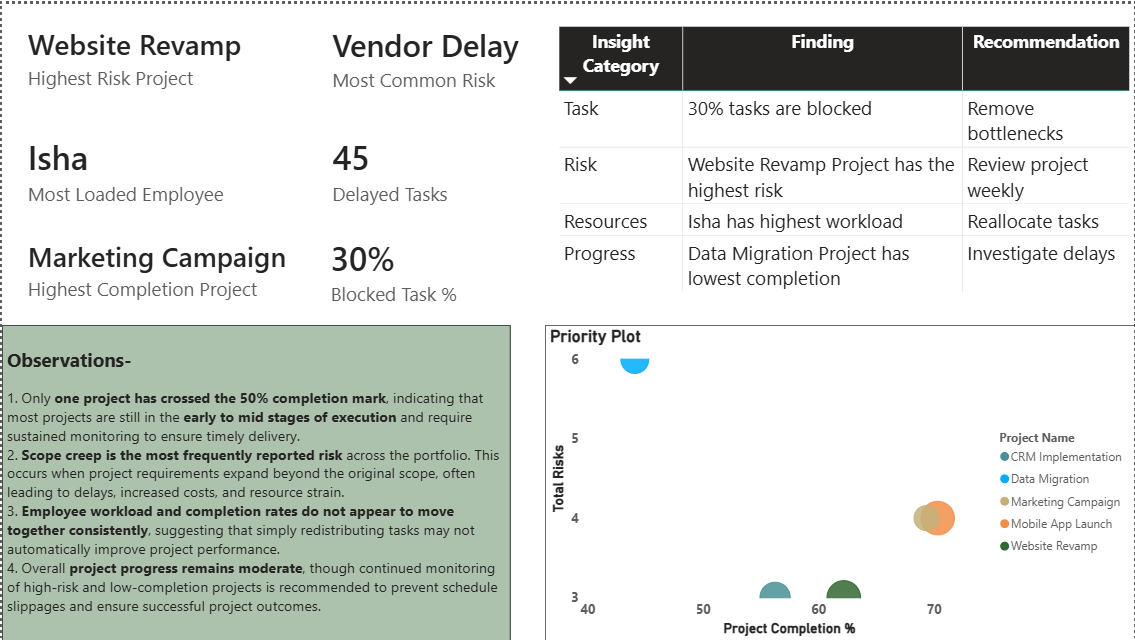

This screenshot's page, from the dashboard's own definition file:
{"tool":"powerbi","page":{"name":"Insights Page","canvas":[1280,720],"ordinal":4},"visuals":[{"type":"cardVisual","fields":{"Data":["Fact_Risks.Highest Risk Project"]},"box":[0,0,324.7,120.9],"z":0},{"type":"cardVisual","fields":{"Data":["Dim_Employees.Most Loaded Employee"]},"box":[0,129.1,300,117.2],"z":1000},{"type":"cardVisual","fields":{"Data":["Dim_Projects.Highest Completion Project"]},"box":[0,242.4,377.6,115.5],"z":2000},{"type":"cardVisual","fields":{"Data":["Fact_Risks.Most Common Risk"]},"box":[344.5,0,299.8,120.9],"z":3000},{"type":"cardVisual","fields":{"Data":["Fact_Tasks.Delayed Tasks"]},"box":[344.5,129.2,205.4,117.6],"z":4000},{"type":"cardVisual","fields":{"Data":["Fact_Tasks.Blocked Task %"]},"box":[342.9,243.5,220.3,114.3],"z":5000},{"type":"scatterChart","title":"Priority Plot","fields":{"Category":["Dim_Projects.ProjectName"],"Series":["Dim_Projects.ProjectName"],"Size":["Fact_Tasks.Total Tasks"],"Y":["Fact_Risks.Total Risks"],"X":["Avg(Dim_Projects.Project Completion %)"]},"box":[612.9,362.8,667.6,357.8],"z":6000},{"type":"textbox","box":[0,362.8,574.8,357.8],"z":7000},{"type":"tableEx","fields":{"Values":["Recommendation Table.Insight Category","Recommendation Table.Finding","Recommendation Table.Recommendation"]},"box":[624,19.9,656,313.1],"z":8000}]}

Visuals, with their boxes in screenshot pixels (x1, y1, x2, y2), scaled from the page's 1280x720 canvas onto the 1135x640 screenshot:
cardVisual - Fact_Risks.Highest Risk Project: x1=0 y1=0 x2=288 y2=107
cardVisual - Dim_Employees.Most Loaded Employee: x1=0 y1=115 x2=266 y2=219
cardVisual - Dim_Projects.Highest Completion Project: x1=0 y1=215 x2=335 y2=318
cardVisual - Fact_Risks.Most Common Risk: x1=305 y1=0 x2=571 y2=107
cardVisual - Fact_Tasks.Delayed Tasks: x1=305 y1=115 x2=488 y2=219
cardVisual - Fact_Tasks.Blocked Task %: x1=304 y1=216 x2=499 y2=318
"Priority Plot" scatterChart: x1=543 y1=322 x2=1134 y2=639
textbox: x1=0 y1=322 x2=510 y2=639
tableEx - Recommendation Table.Insight Category x Recommendation Table.Finding: x1=553 y1=18 x2=1134 y2=296
